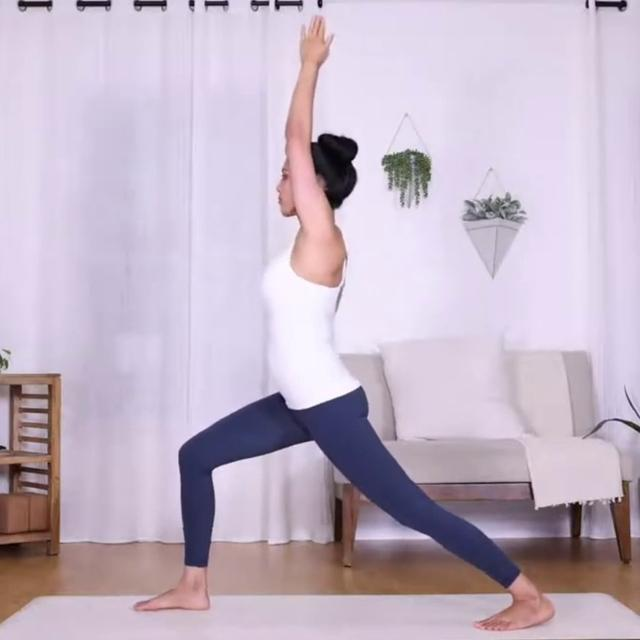Warrior_I: (98, 6, 566, 640)
